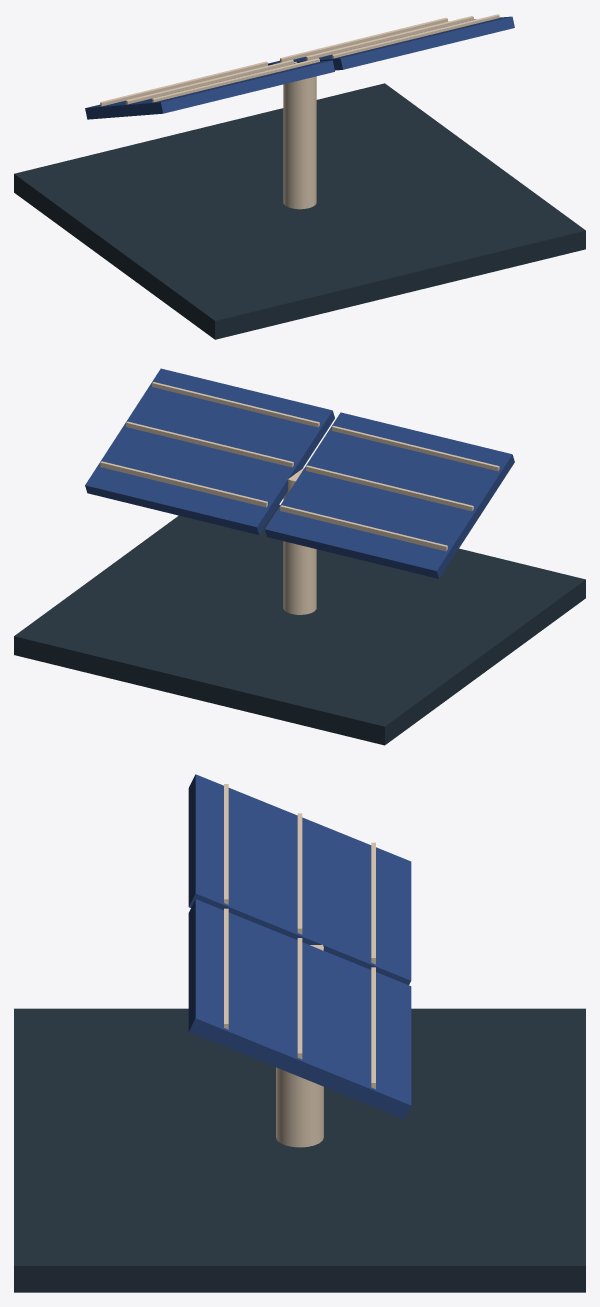
Rendered from solarPanel.glb.
The picture shows the model from 3 angles, top to bottom: view 1: azimuth 30°, elevation 25°; view 2: azimuth 150°, elevation 25°; view 3: azimuth 270°, elevation 25°; orthographic projection. The views are drawn at different scales.
Visible parts, largest first — view 1: solarPanel; view 2: solarPanel; view 3: solarPanel.
Part boxes in pixels (<box>): solarPanel: <box>14,14,585,339</box>; solarPanel: <box>14,368,585,745</box>; solarPanel: <box>14,774,585,1292</box>.
Size of the model in its own units: 3.3 by 1.6 by 3.1.
